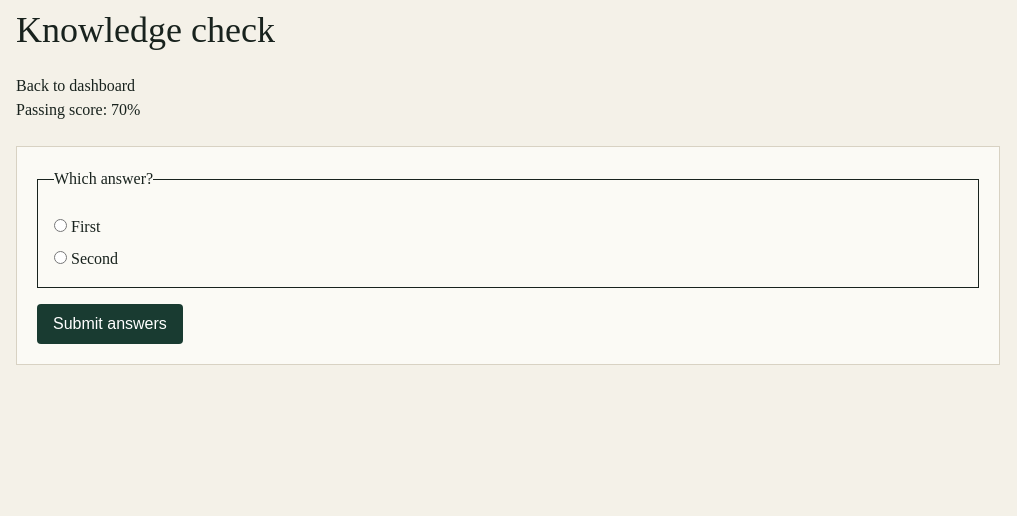
Test: submits selected answers and displays the backend score
The width and height of the screenshot is (1017, 516).
Click the radio button labelled "Second". click: (60, 258)
box: [54, 251, 67, 264]
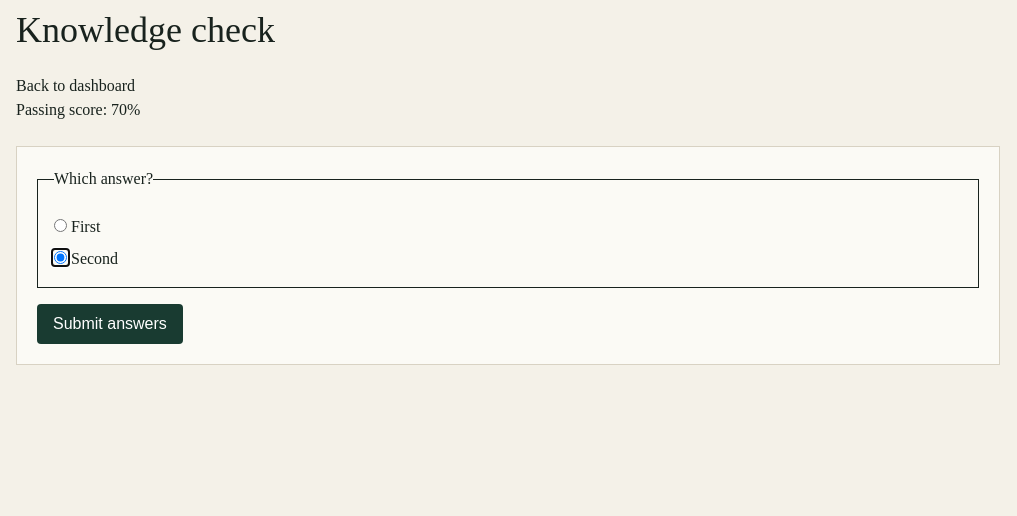
Click the button "Submit answers". click: (110, 324)
box: [37, 304, 183, 344]
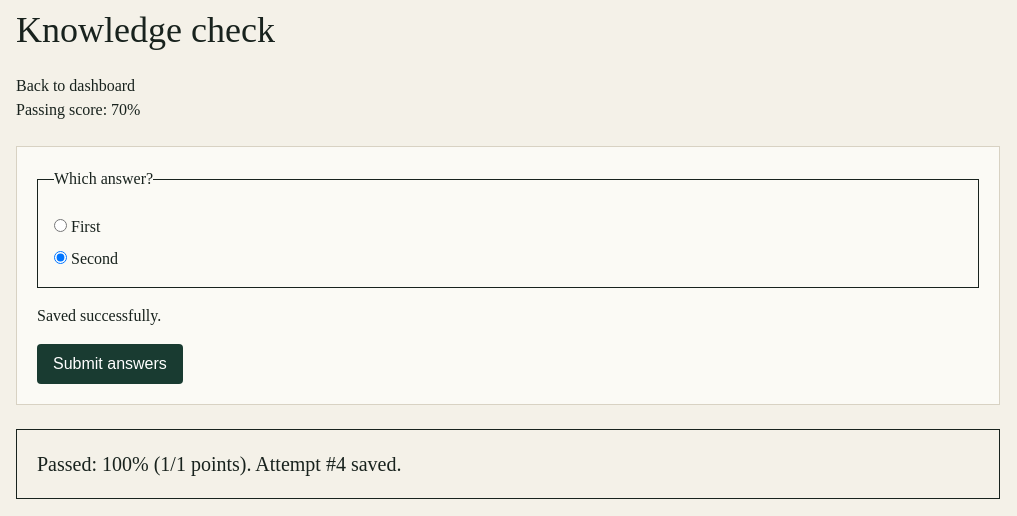
Result: the text "Passed: 100% (1/1 points). Attempt #4 saved." is shown at [16, 429, 1000, 499]
